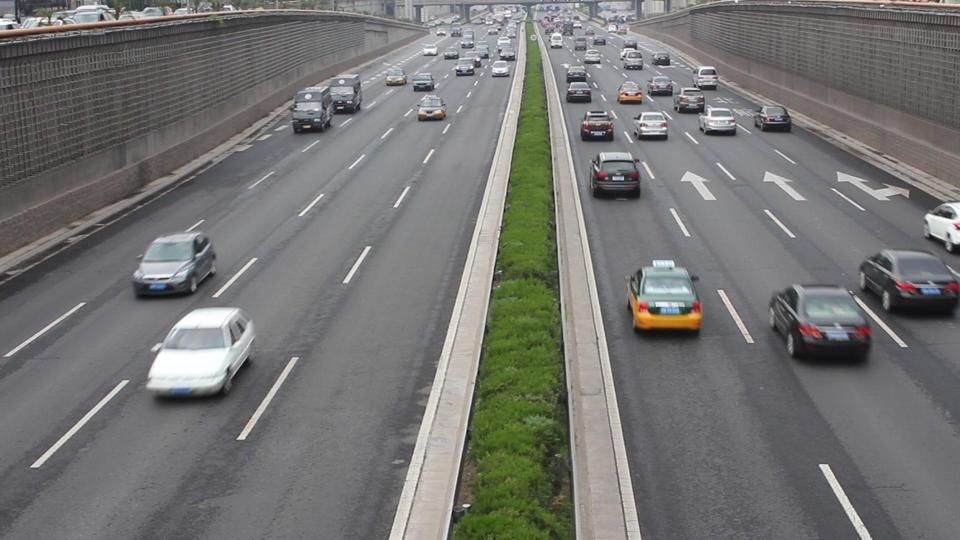Car: (146, 306, 254, 395), (770, 283, 868, 361), (856, 248, 953, 311), (132, 230, 217, 296), (624, 263, 701, 333), (578, 109, 614, 142), (698, 105, 734, 133), (633, 110, 668, 138), (752, 104, 788, 130), (674, 85, 705, 111), (417, 94, 446, 121), (566, 81, 592, 102), (617, 81, 641, 103)
Minivan: (589, 151, 642, 195), (291, 85, 334, 132), (327, 72, 363, 112)
